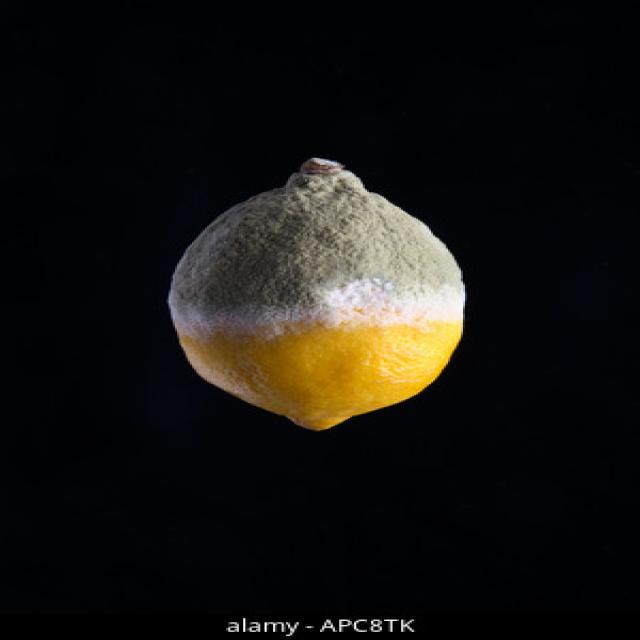Rotten: (164, 153, 480, 434)
